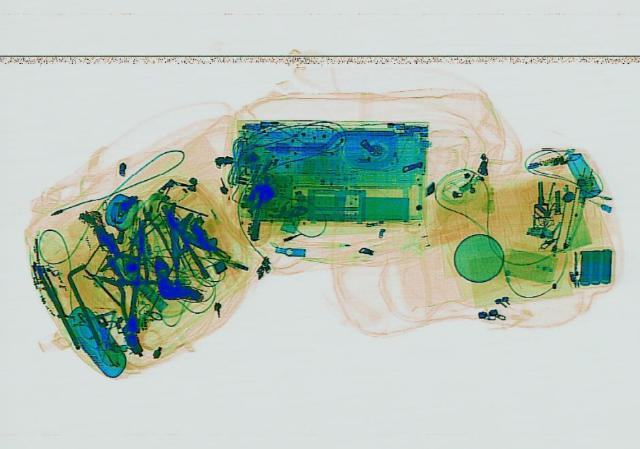Pliers: (122, 204, 176, 267)
